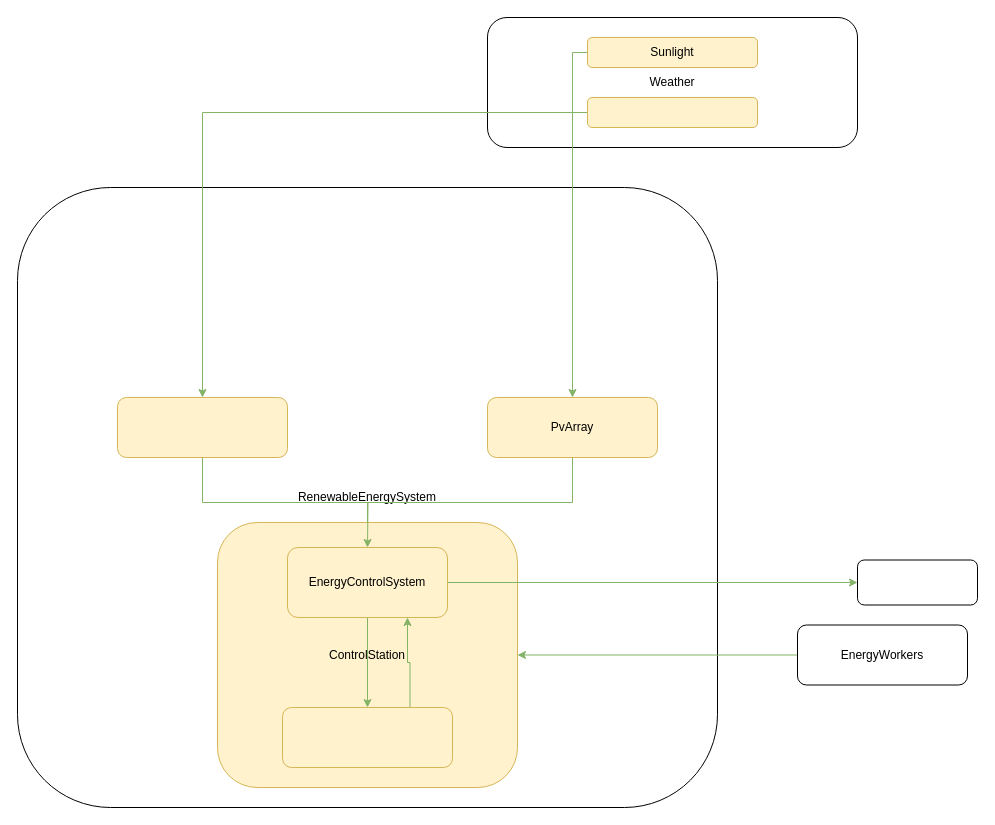
Some shapes in this 995 by 825 pixel diagram are drawn without their labels. Here are the shapes that lost their labels. From the top down, the centre of each, then its label:
At point (672, 112): "Airflow".
At point (202, 427): "WindTurbine".
At point (917, 582): "EnergyGrid".
At point (367, 737): "BatteryUnit".
